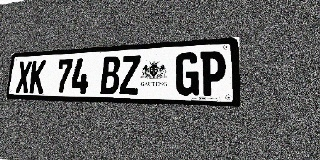4: (71, 58, 90, 94)
7: (55, 59, 73, 94)
B: (100, 56, 121, 95)
G: (175, 52, 199, 96)
K: (29, 60, 46, 93)
P: (200, 50, 226, 96)
X: (15, 61, 32, 93)
Z: (119, 55, 141, 95)
